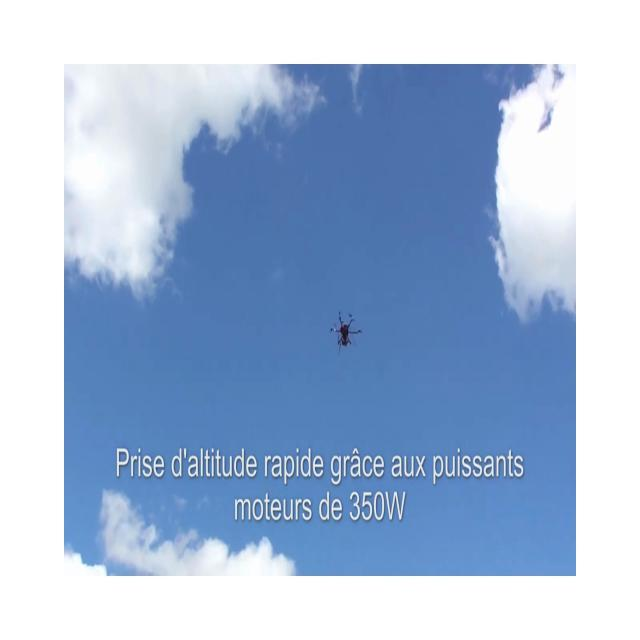drone: (329, 310, 362, 355)
